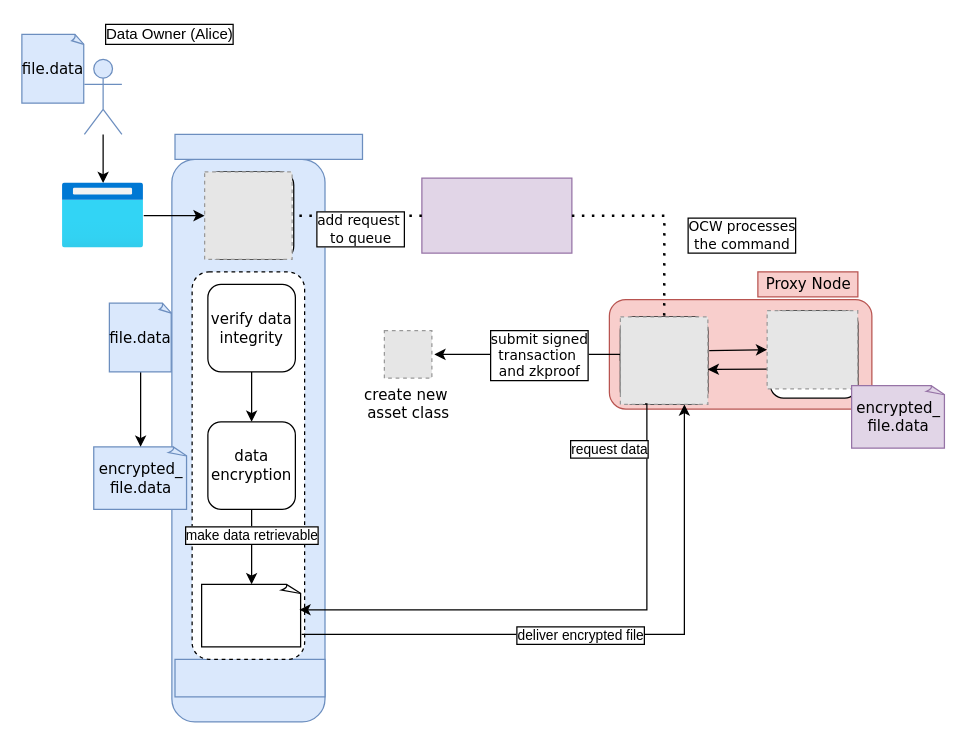
Image size: 968x744. Some labels were removed from this diagram. Grey dashed boxes stand in for pictures. The shapes that lost their labels are listed below. From the top down, each one's box as (x1, y1, x2, y2) in pixels, then its label:
(174, 133, 362, 159): Iris Node (data owner)
(421, 177, 572, 253): Shared DataQueue
(200, 583, 302, 647): encrypted _file.data
(174, 658, 325, 697): offchain data owner client
